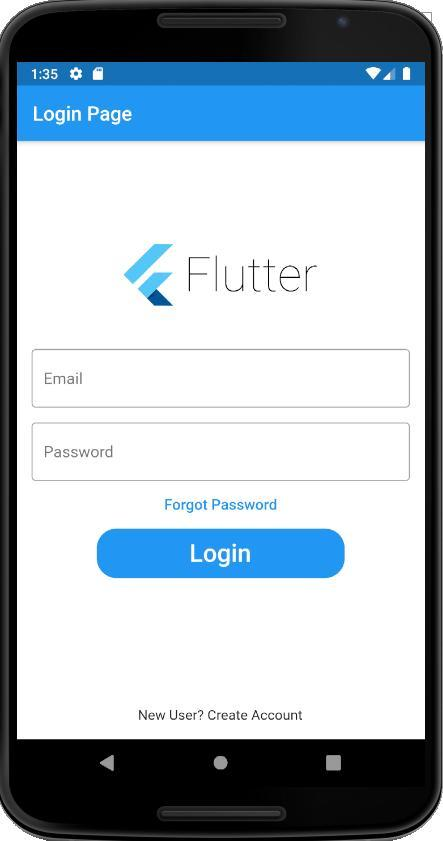input: (33, 350, 411, 408), (34, 422, 410, 480), (98, 530, 346, 579)
